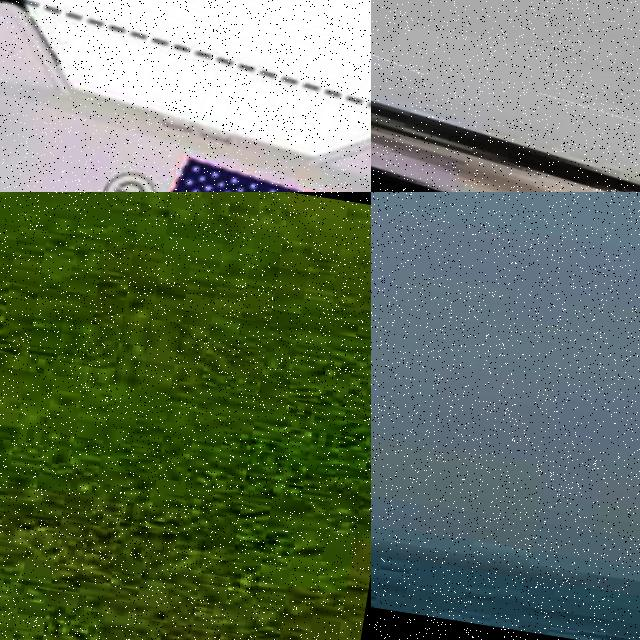drone: (0, 0, 371, 192), (371, 45, 640, 192)
